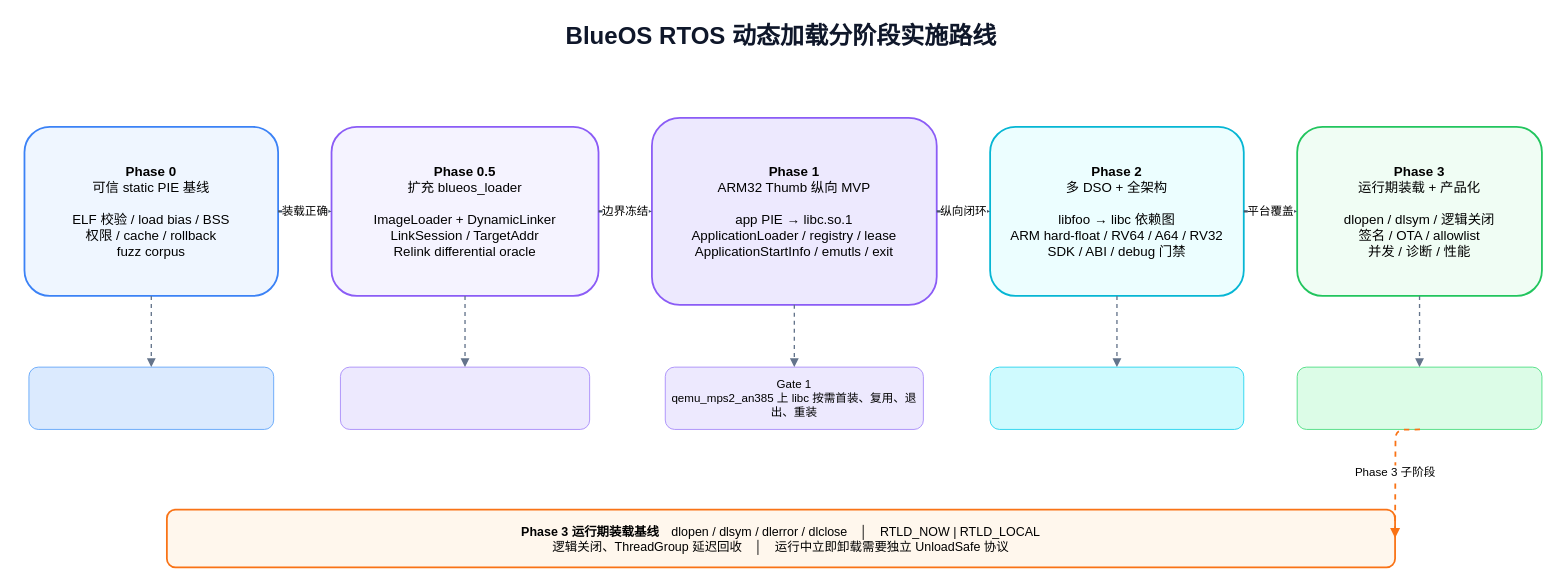
Image size: 1561x583. Some labels were removed from this diagram. The centre of each missing label's shape, as x and y in pixels:
"Gate 0 malformed ELF 与 mapping corpus 全部确定失败/成功" belongs at [151,397].
"Gate 0.5 接口 ADR、拒绝清单、oracle 和体积基线冻结" belongs at [465,397].
"Gate 2 同一依赖 fixture 在六 target 绑定与 ctor 顺序一致" belongs at [1116,397].
"Gate 3 dl* 并发、OTA、压力、符号化与性能达标" belongs at [1419,397].
